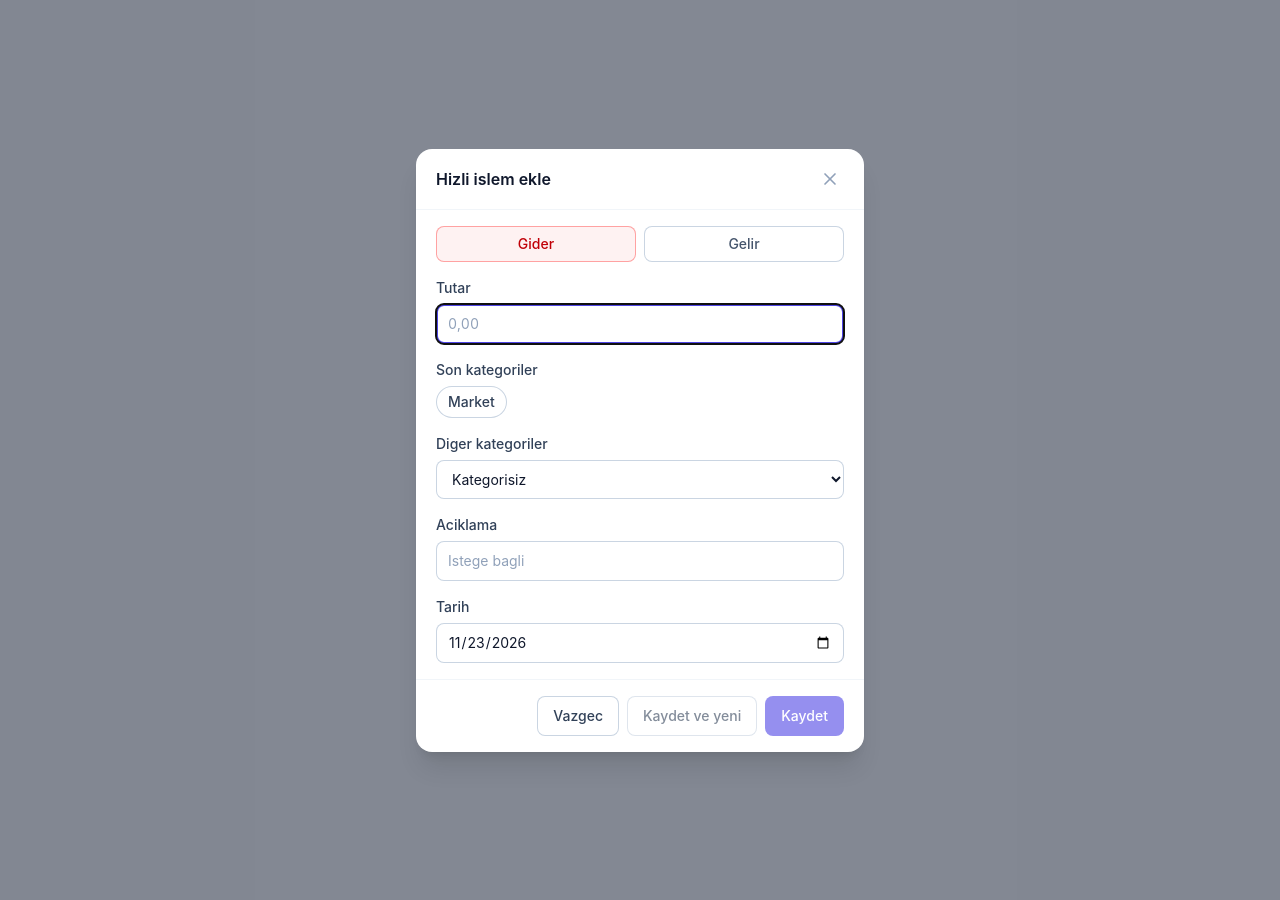
Test case: HizliEkle › Kaydet ve yeni formu sifirlar, modal acik kalir
Type "40" into the field labelled "Tutar" at (640, 324), box [436,304,844,344]
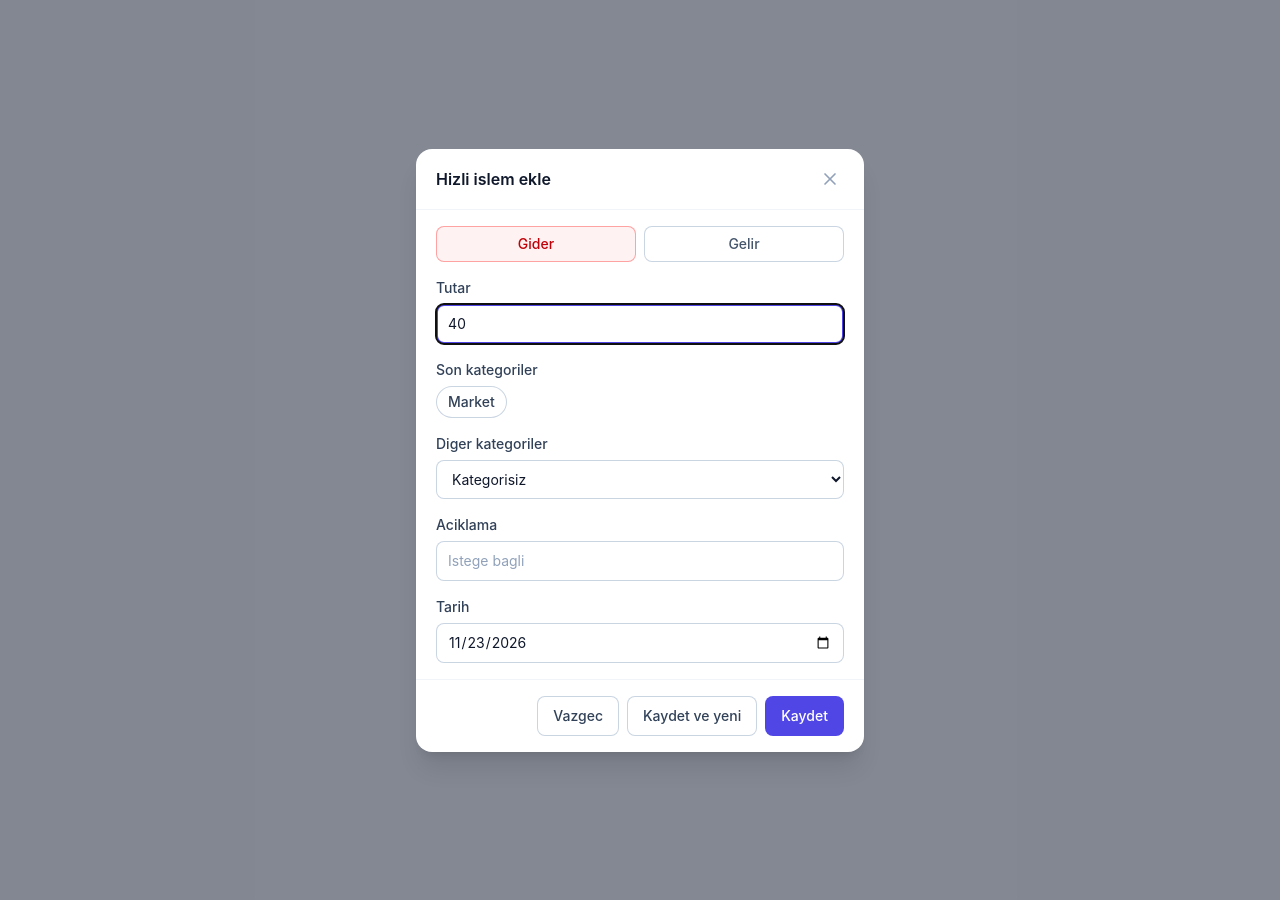
Click the button "Market" at (471, 402), box [436,386,507,418]
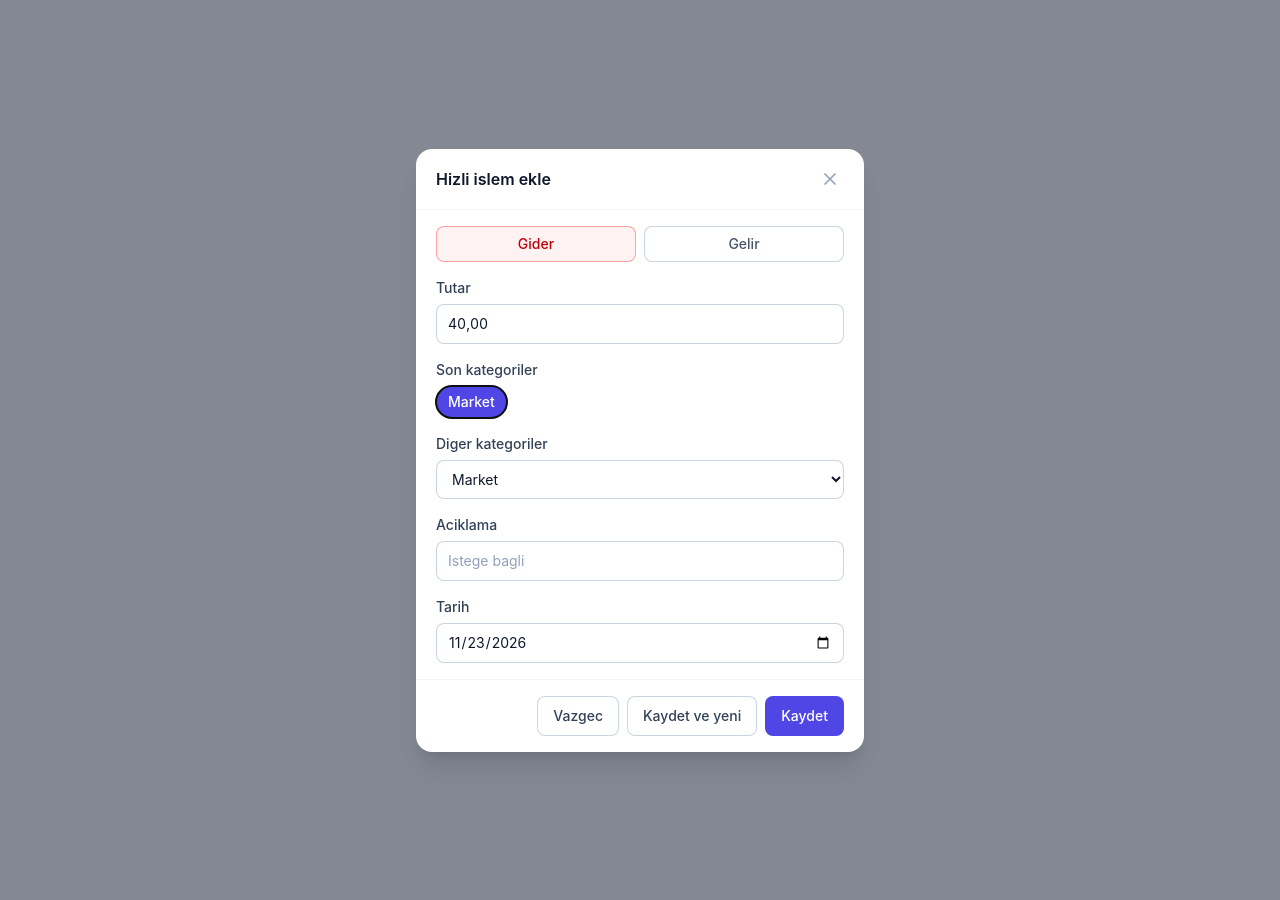
Type "ekmek" into the field labelled "Aciklama" at (640, 560), box [436,540,844,580]
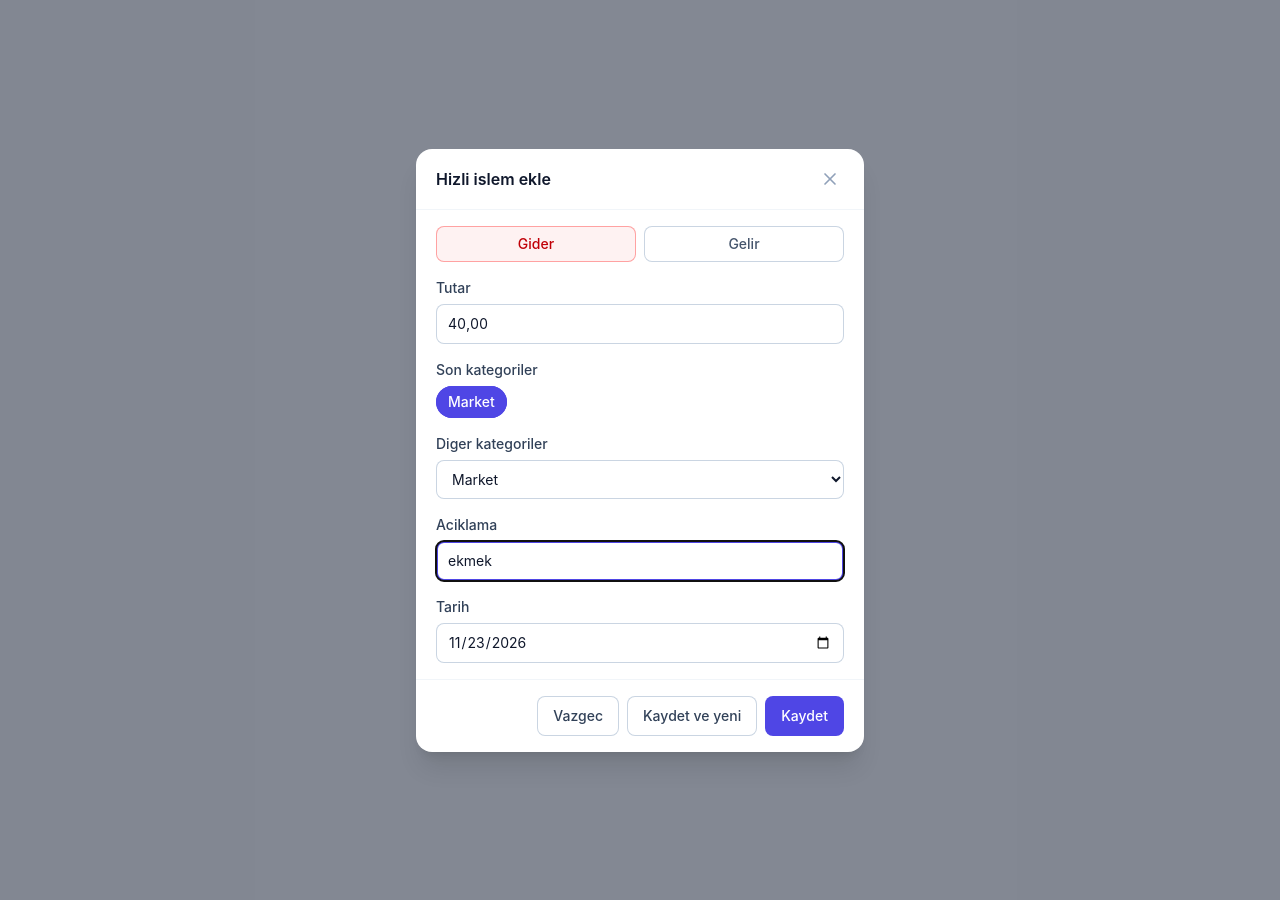
Click the button "Kaydet ve yeni" at (692, 716), box [627,696,757,736]
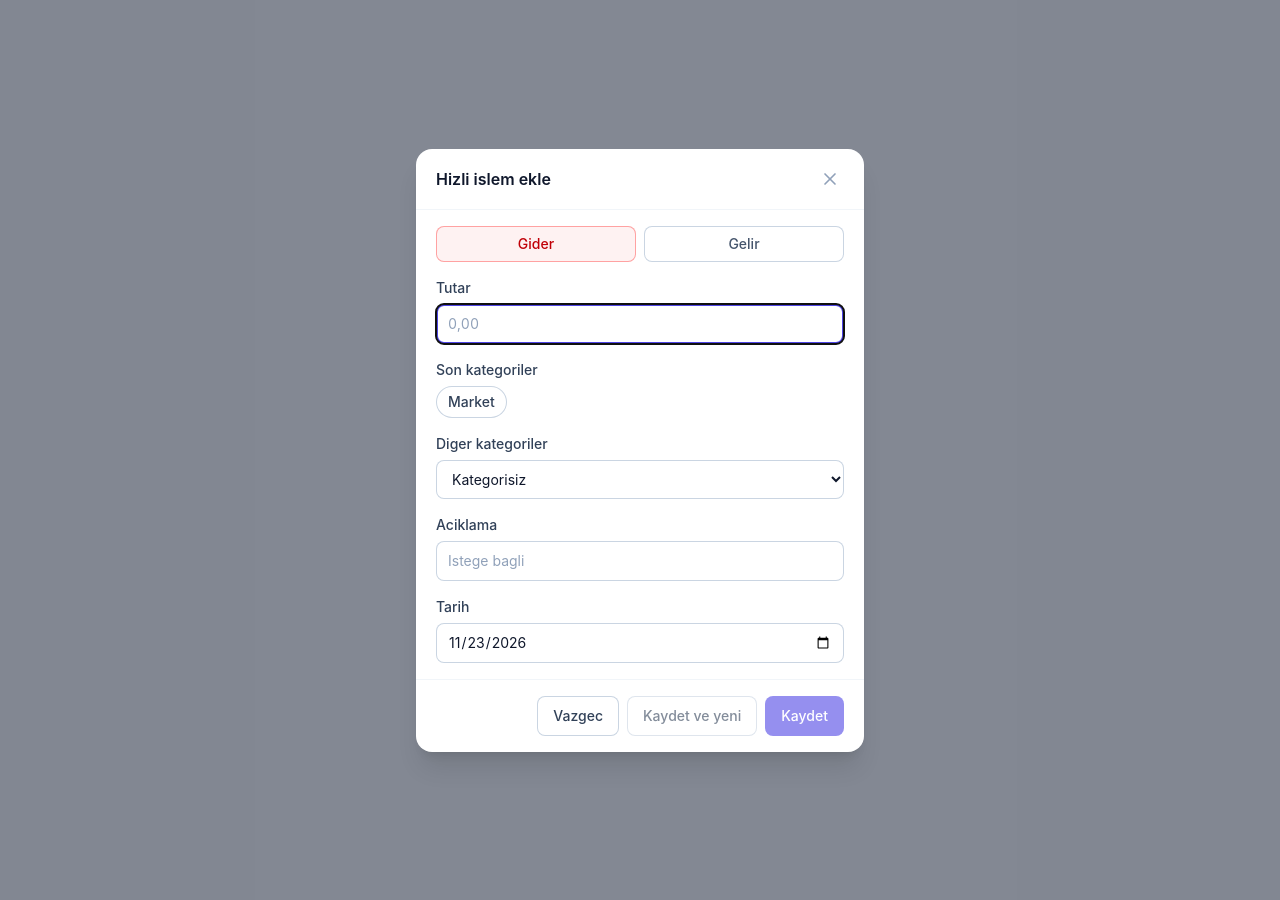
Expected: the field labelled "Tutar" is empty, [436,304,844,344]
Expected: the field labelled "Aciklama" is empty, [436,540,844,580]
Expected: the button "Kaydet" is disabled, [765,696,844,736]
